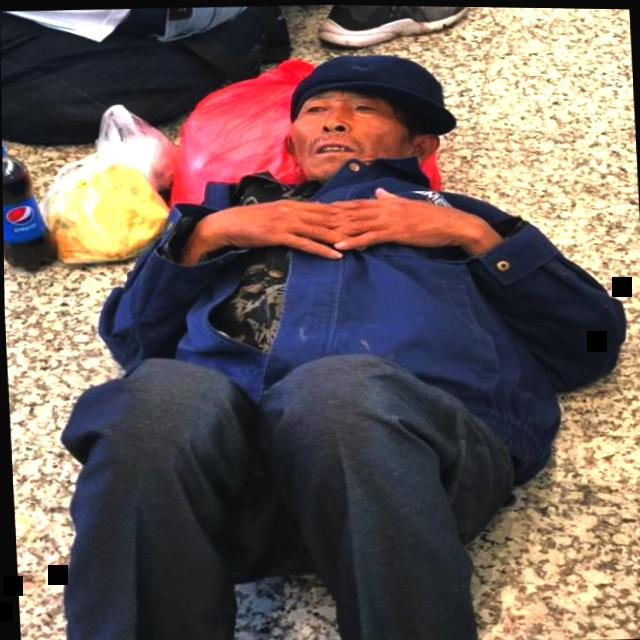Fall-Detected: (9, 9, 635, 640)
